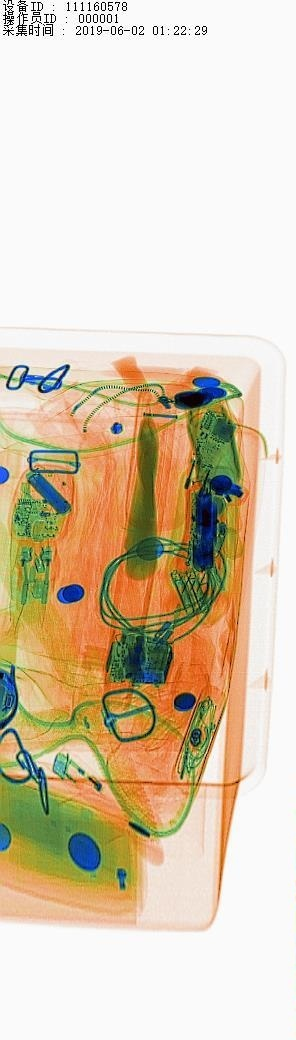NonmetallicFire: (39, 740, 165, 844)
